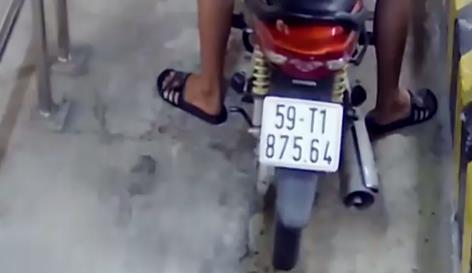lisence: (258, 95, 343, 172)
